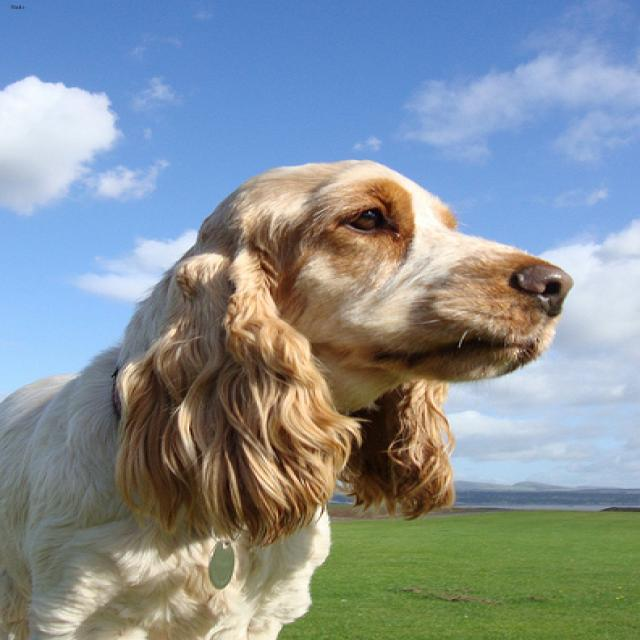dog-english_cocker_spaniel: (2, 146, 592, 637)
